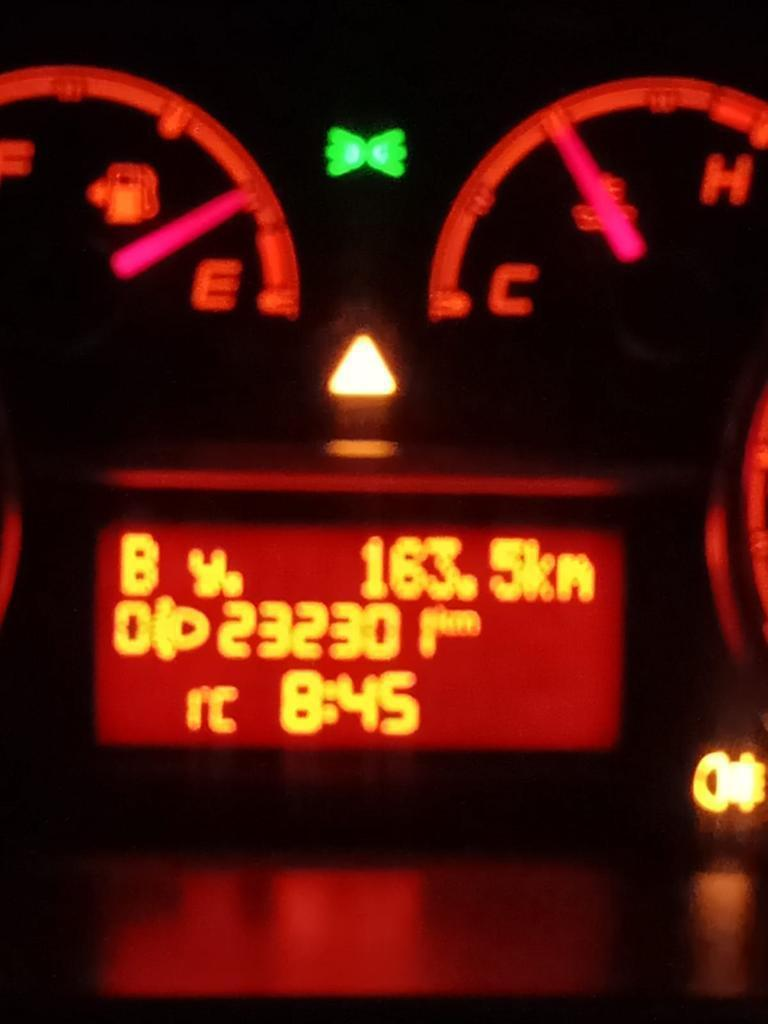,: (459, 567, 480, 604), (224, 567, 246, 596)
0: (114, 598, 152, 657), (364, 602, 401, 662)
1: (358, 532, 388, 601), (417, 605, 435, 662), (185, 687, 201, 736)
2: (218, 598, 256, 657), (293, 598, 327, 661)
3: (424, 534, 463, 602), (331, 599, 363, 662), (258, 597, 290, 658)
4: (338, 672, 378, 735)
5: (379, 669, 421, 736), (487, 536, 524, 601)
6: (390, 536, 424, 601)
8: (277, 667, 322, 737)
X: (118, 530, 158, 595), (556, 550, 597, 608), (188, 546, 225, 599), (524, 537, 553, 604), (208, 684, 243, 734), (455, 607, 484, 637), (323, 676, 336, 729), (436, 603, 455, 636)
odometer: (84, 505, 636, 753)
